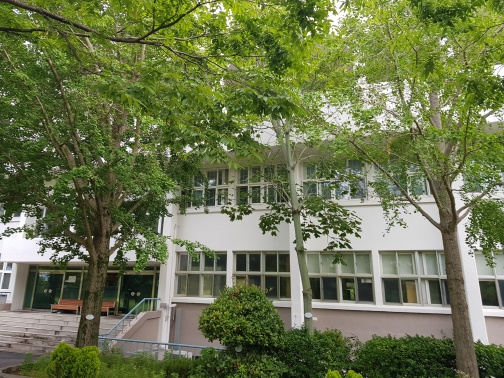Main Building of University: (24, 110, 504, 352)
